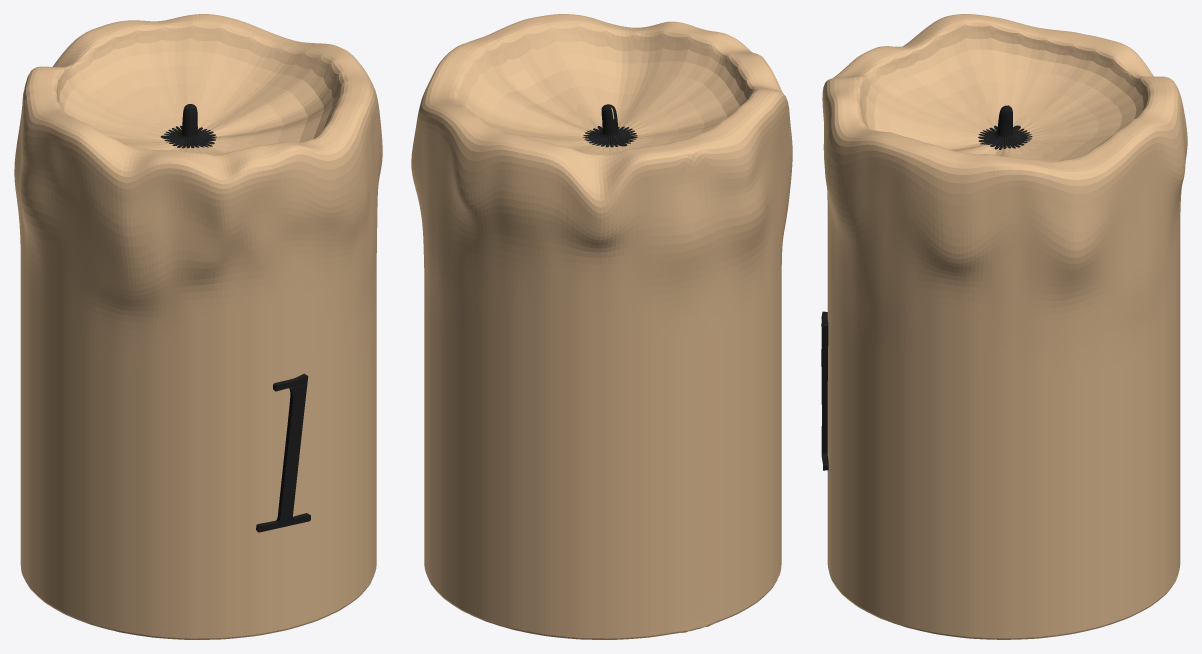
The model's file is Candle-1.fbx.
3 renders of one model, left to right at view 1: azimuth 30°, elevation 25°; view 2: azimuth 150°, elevation 25°; view 3: azimuth 270°, elevation 25°, orthographic.
Parts seen in each view (by area): view 1: Candle, Text; view 2: Candle; view 3: Candle, Text.
Part boxes in pixels (x1=…): Candle: x1=14, y1=14, x2=382, y2=639; Text: x1=256, y1=373, x2=310, y2=532; Candle: x1=411, y1=14, x2=792, y2=639; Candle: x1=822, y1=14, x2=1187, y2=639; Text: x1=821, y1=311, x2=828, y2=470.
Size of the model in its own units: 41.75 by 60.84 by 41.42.
